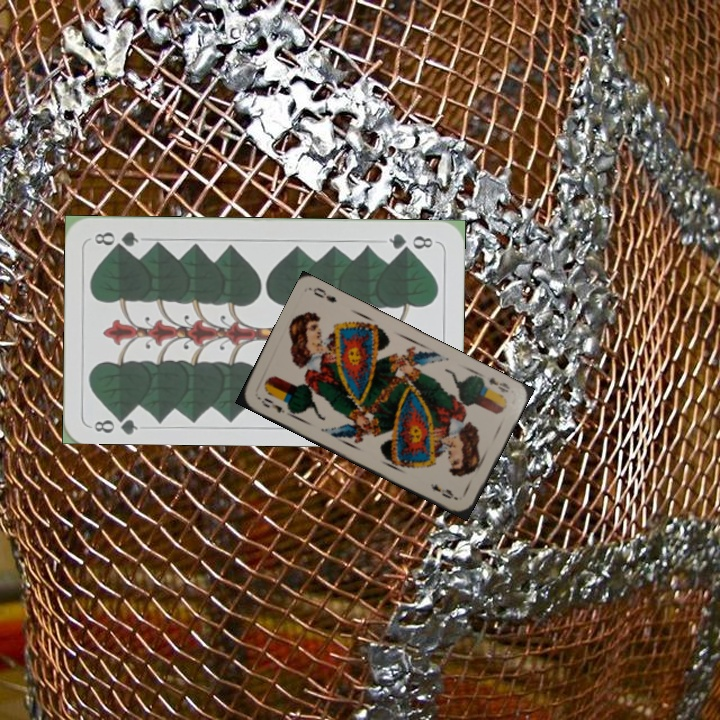EO: (257, 394, 288, 416), (485, 373, 513, 395)
G8: (90, 409, 140, 436), (385, 229, 436, 253)
